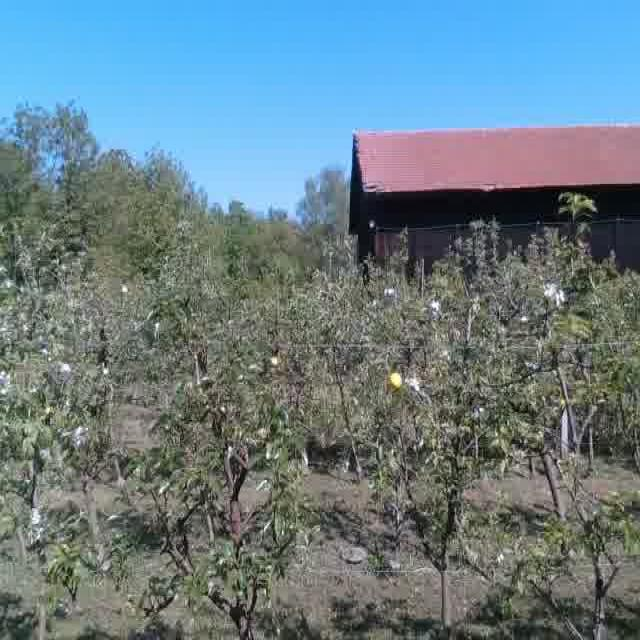yellow: (389, 368, 406, 391), (266, 352, 285, 370)
